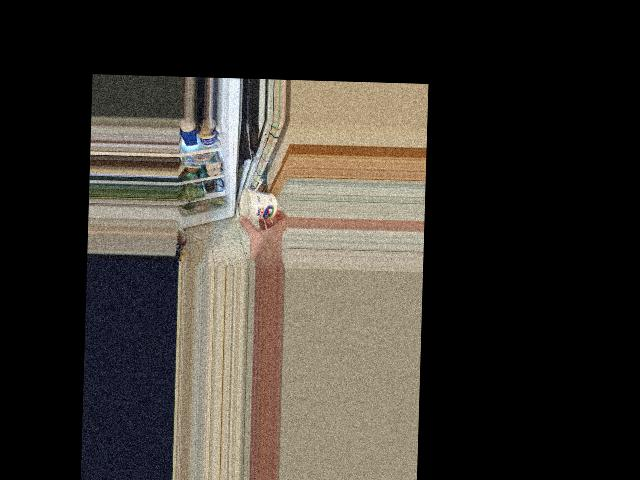cotage: (239, 188, 279, 222)
